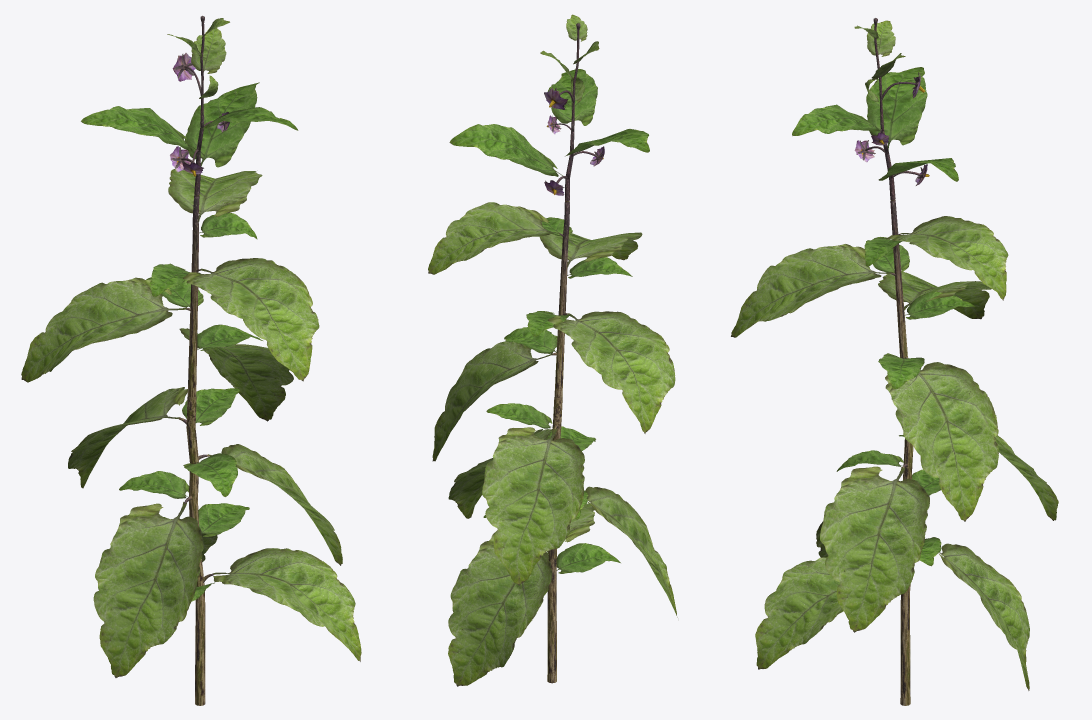
3 renders of one model, left to right at view 1: azimuth 30°, elevation 25°; view 2: azimuth 150°, elevation 25°; view 3: azimuth 270°, elevation 25°, orthographic. The views are drawn at different scales.
Parts seen in each view (by area): view 1: VG19_3; view 2: VG19_3; view 3: VG19_3.
Part boxes in pixels (x1=…): VG19_3: x1=21, y1=15, x2=361, y2=705; VG19_3: x1=428, y1=14, x2=677, y2=686; VG19_3: x1=731, y1=18, x2=1058, y2=705.
Size of the model in its own units: 0.2933 by 0.6835 by 0.3199.
8 materials, 8 textured.
